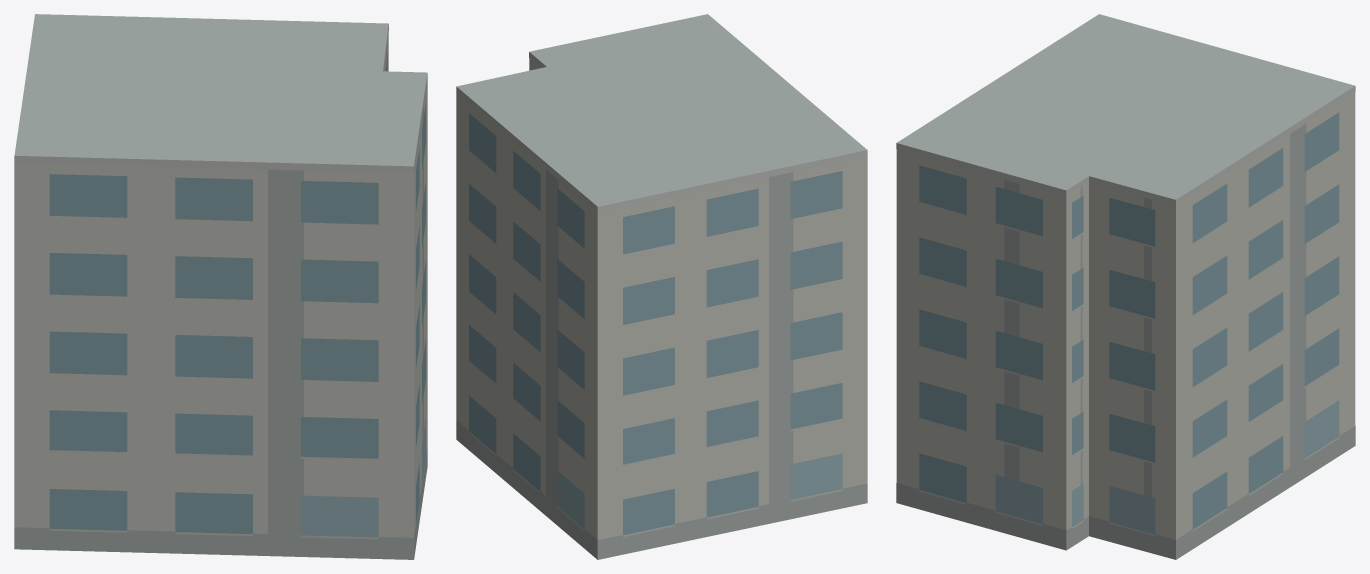
The model's file is survey-upis-32782634.glb.
3 views of the same model, side by side, from view 1: azimuth 30°, elevation 25°; view 2: azimuth 150°, elevation 25°; view 3: azimuth 270°, elevation 25° (orthographic). The views are drawn at different scales.
Visible parts, largest first — view 1: survey-upis-32782634.tmp; view 2: survey-upis-32782634.tmp; view 3: survey-upis-32782634.tmp.
Boxes of the visible parts, x1=… form: survey-upis-32782634.tmp: x1=14, y1=14, x2=427, y2=559; survey-upis-32782634.tmp: x1=456, y1=14, x2=867, y2=559; survey-upis-32782634.tmp: x1=896, y1=14, x2=1355, y2=559.
Bounding box in the file's own units: 14.95 × 13.5 × 15.61.
